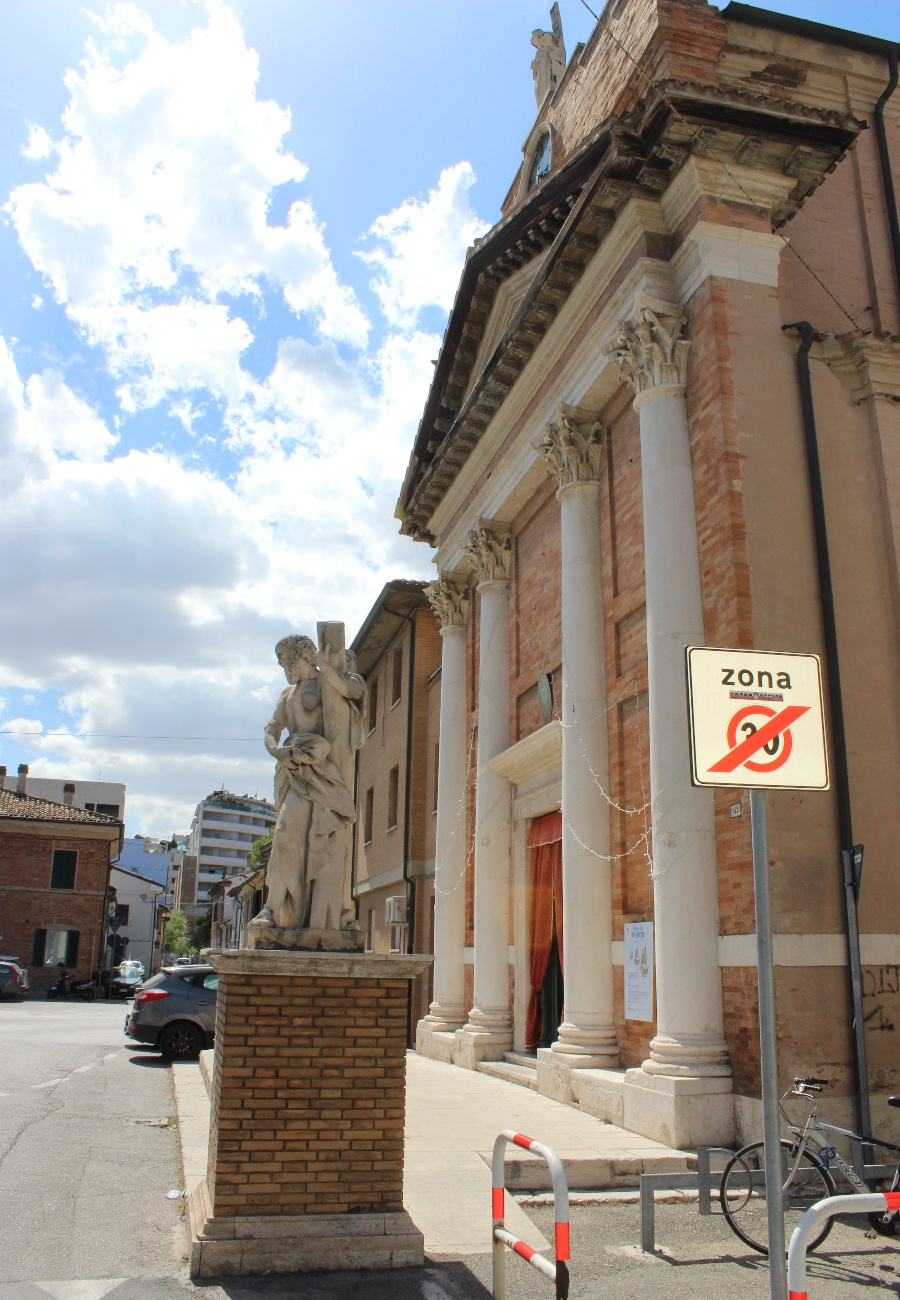Parrocchia Santa Maria: (223, 7, 749, 1136)
